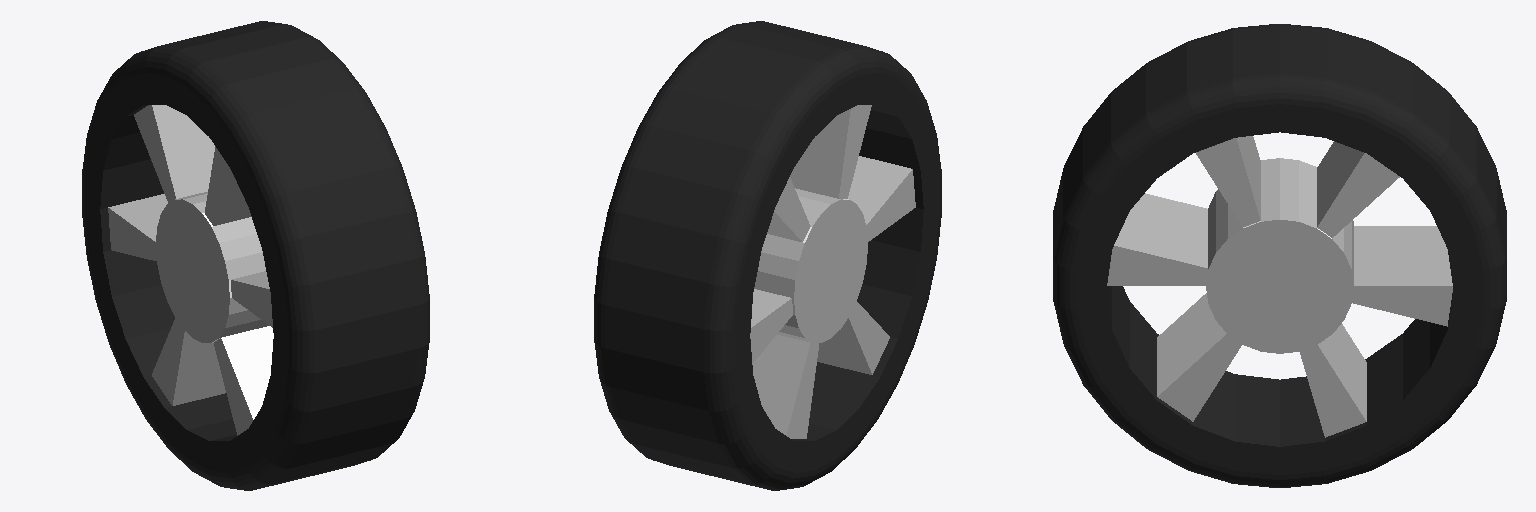
File: Pneu2.obj
The picture shows the model from 3 angles: view 1: azimuth 30°, elevation 25°; view 2: azimuth 150°, elevation 25°; view 3: azimuth 270°, elevation 25°; orthographic projection.
Visible parts, largest first — view 1: Mesh1 Model; view 2: Mesh1 Model; view 3: Mesh1 Model.
Part boxes in pixels (x1,y1,x2,y2): Mesh1 Model: (82, 21, 429, 490); Mesh1 Model: (594, 21, 941, 490); Mesh1 Model: (1053, 24, 1506, 487).
Bounding box in the file's own units: 3.5 × 10 × 9.95.